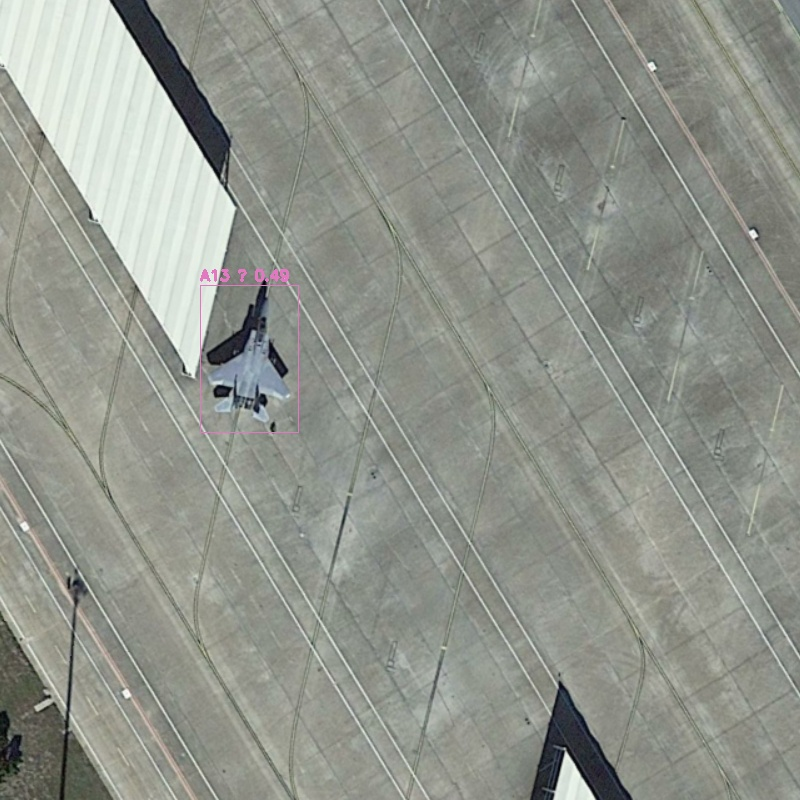A13: (200, 285, 298, 432)
